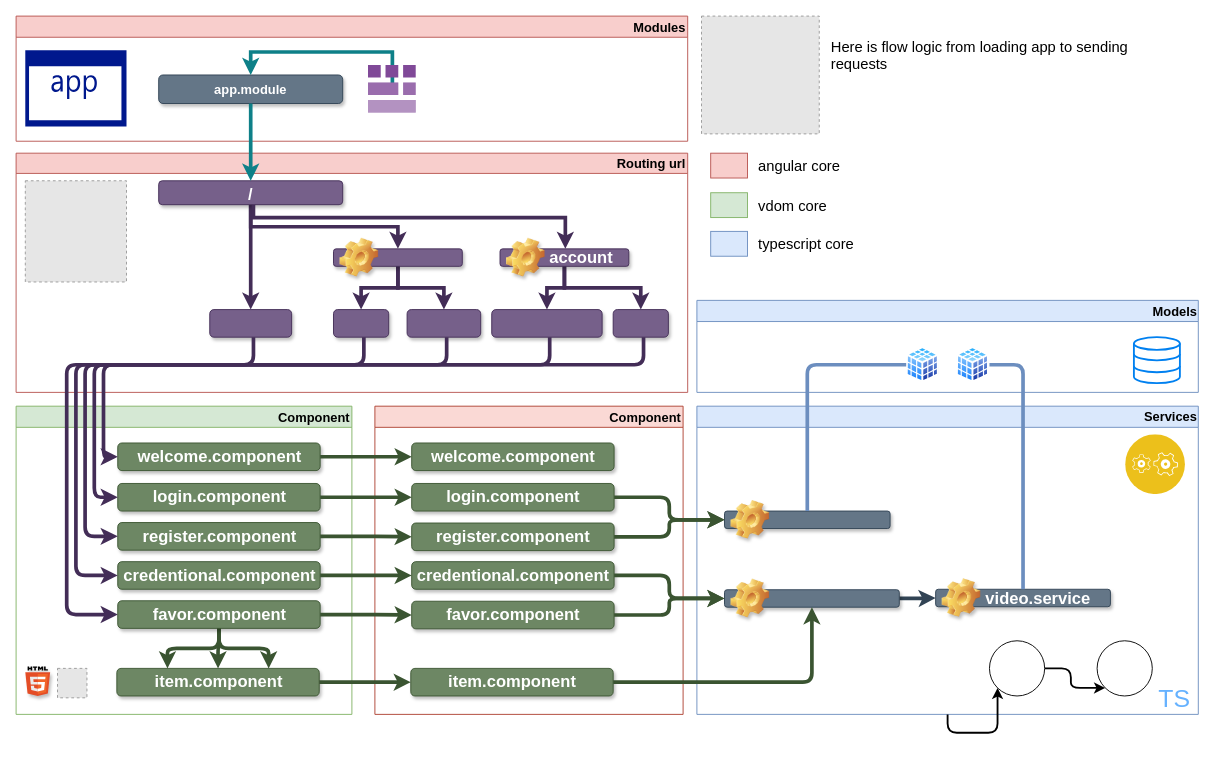
This 1219x757 diagram has some shape labels left out. Grey dashed boxes stand in for pictures. The shapes that lost their labels are listed below. From the top down, each one's centre as x and y in pixels, then its label:
At (x=392, y=89): "RouterModule".
At (x=398, y=258): "auth".
At (x=251, y=324): "/welcome".
At (x=361, y=324): "/login".
At (x=444, y=324): "/register".
At (x=547, y=324): "/credentional".
At (x=641, y=324): "/favor".
At (x=922, y=364): "user".
At (x=972, y=364): "video".
At (x=808, y=520): "auth.service".
At (x=812, y=599): "account.service".
At (x=1017, y=668): "RESTful".
At (x=1124, y=668): "backend".
